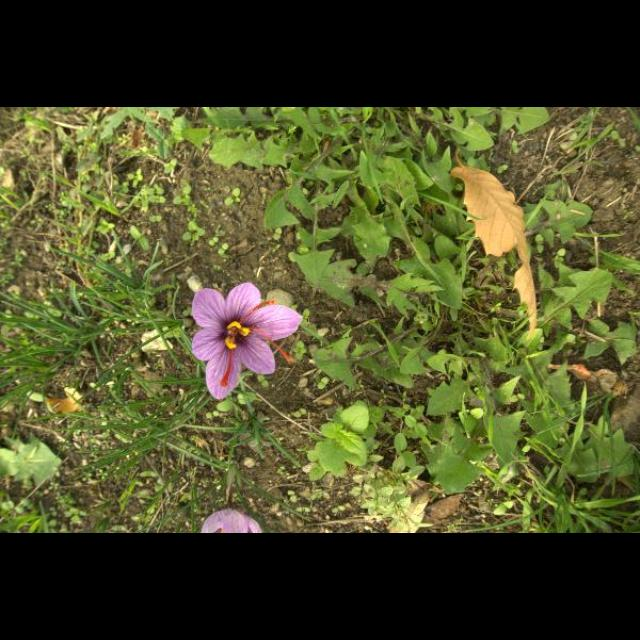flower: (192, 282, 304, 401), (202, 508, 262, 534)
